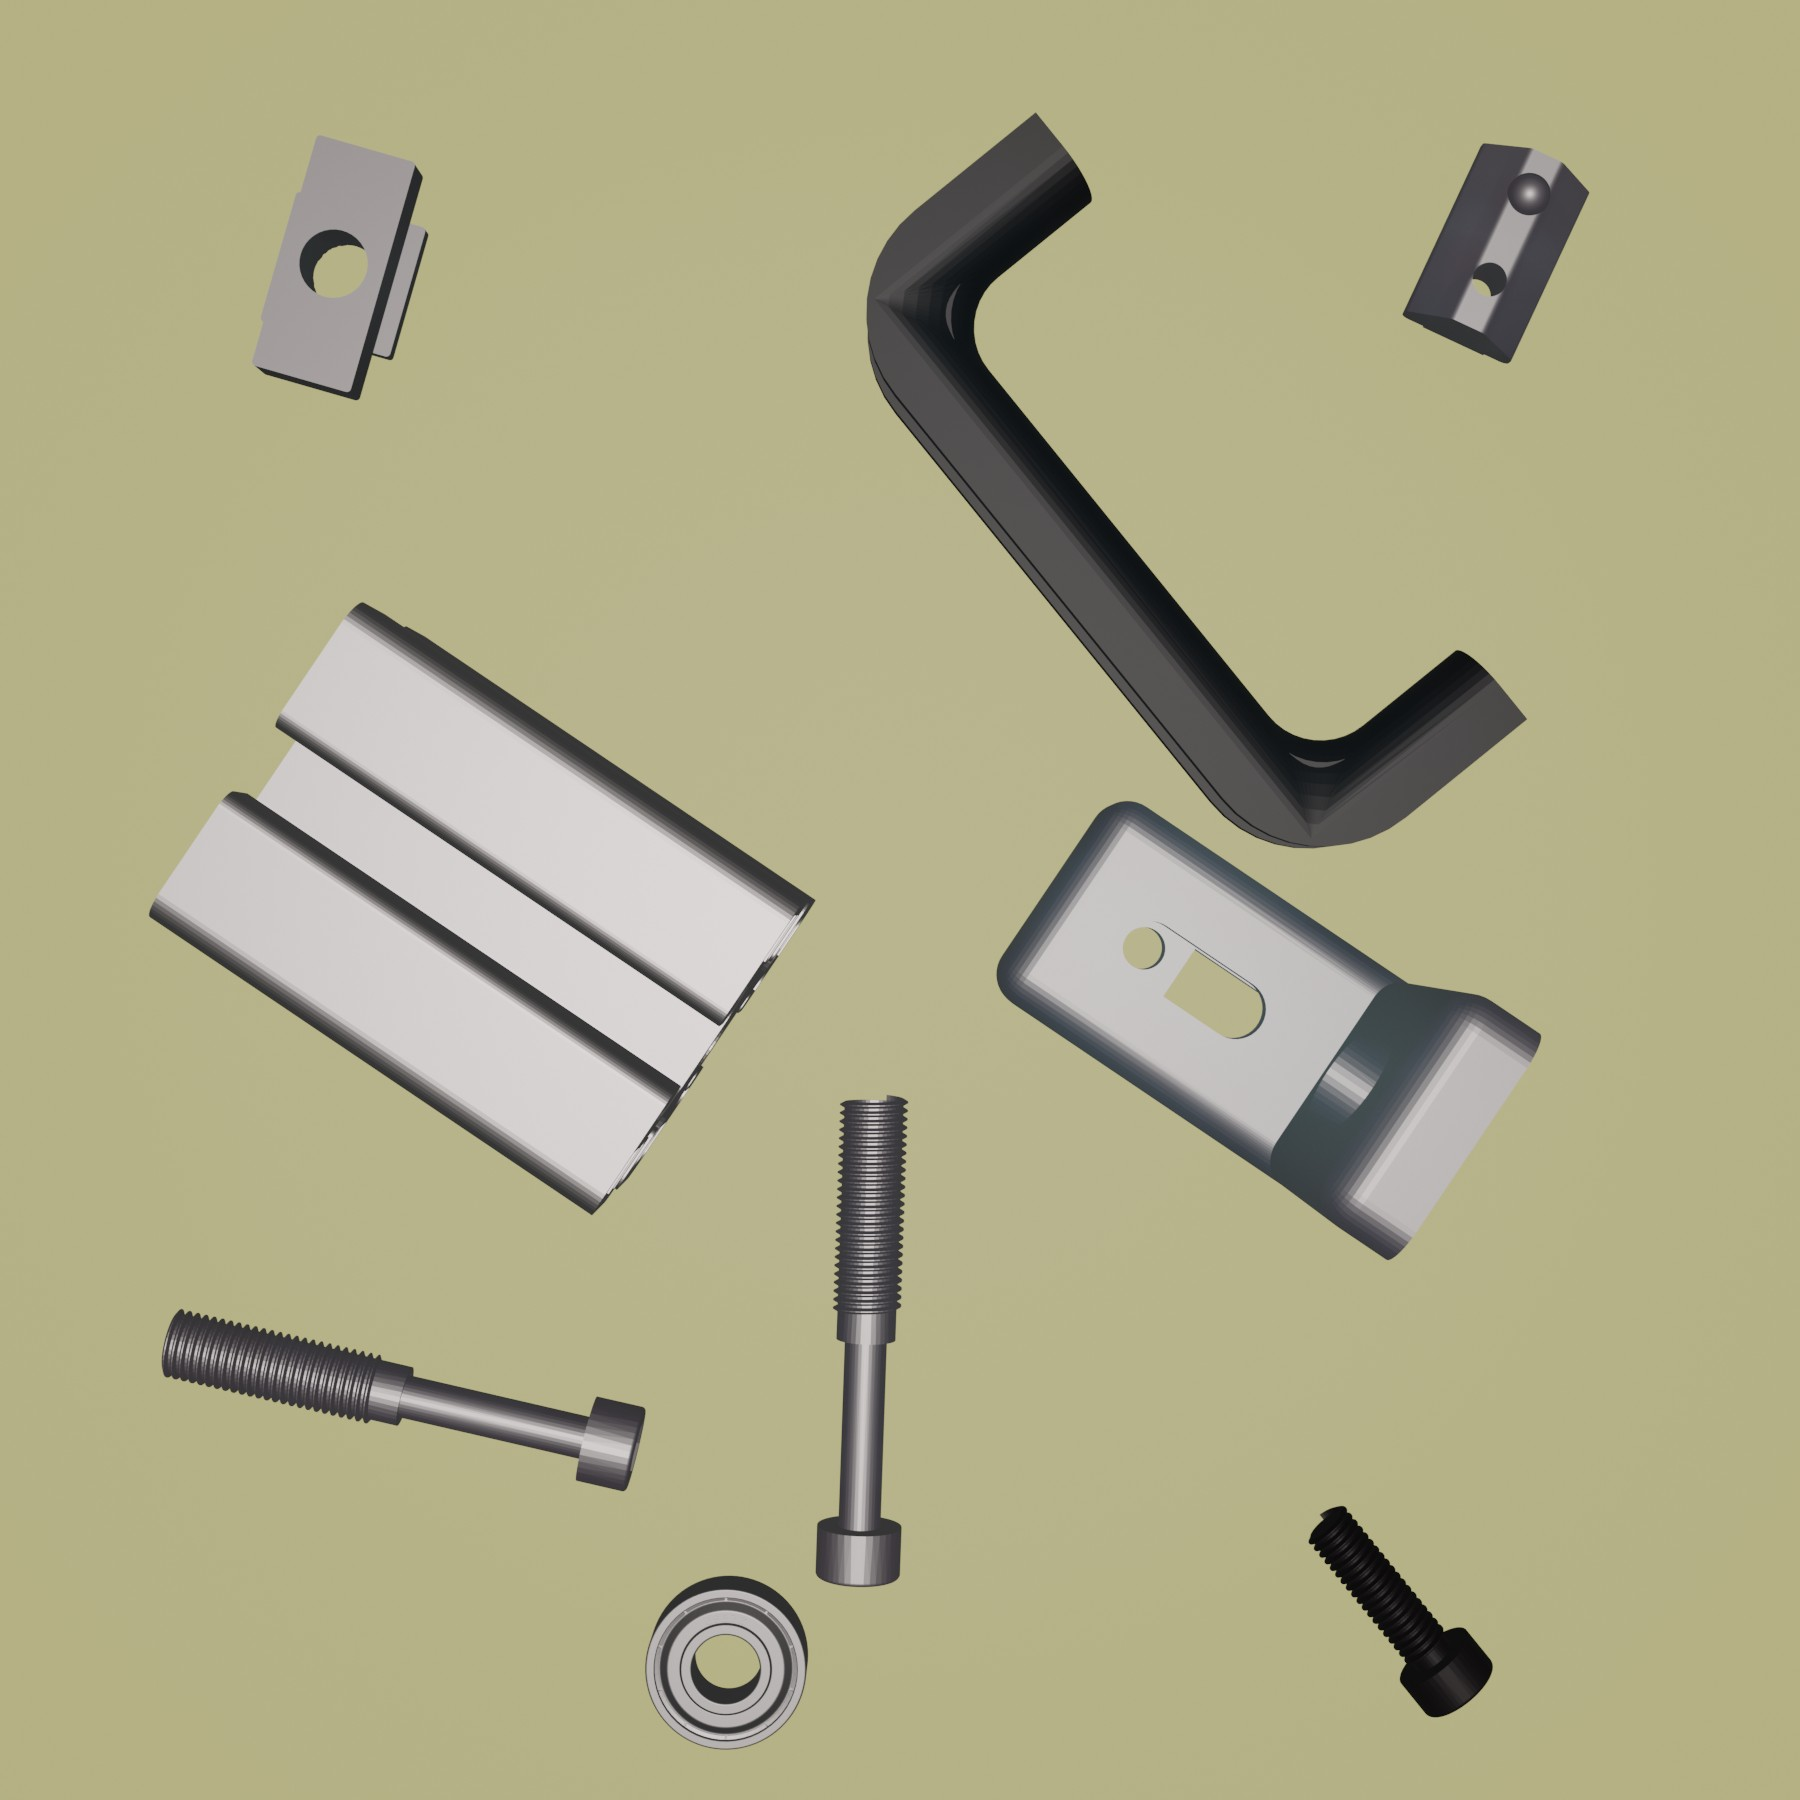Aluminium Extension: (143, 598, 819, 1220)
Ball Bearing: (641, 1573, 811, 1752)
Multiwinkel: (992, 798, 1543, 1263)
Pull Handle: (864, 109, 1526, 851)
Shoulder Socket Head Cap Screw: (157, 1304, 648, 1495), (813, 1088, 913, 1589)
Socket Head Cap Screw: (1304, 1500, 1493, 1719)
T Nut Square: (251, 130, 434, 404)
T Spring Nut: (1398, 142, 1592, 364)
